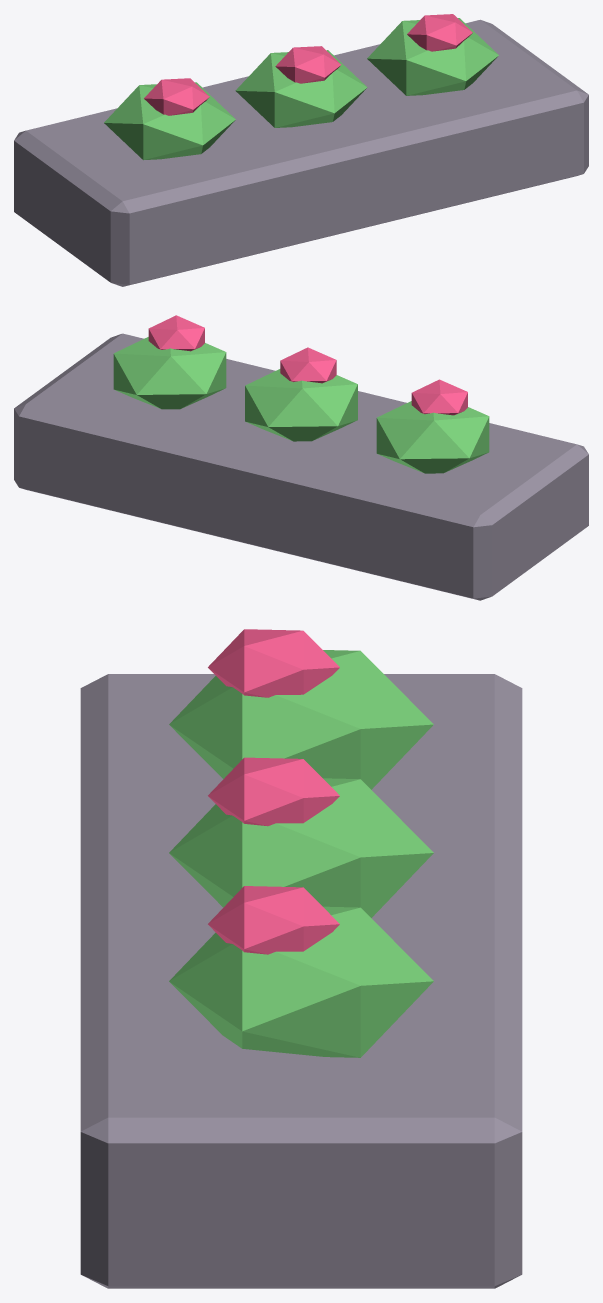
Rendered from planter.glb.
3 views of the same model, one above another, from view 1: azimuth 30°, elevation 25°; view 2: azimuth 150°, elevation 25°; view 3: azimuth 270°, elevation 25° (orthographic). The views are drawn at different scales.
Parts seen in each view (by area): view 1: box, plant.002, plant, plant.001, flower, flower.002, flower.001; view 2: box, plant.002, plant, plant.001, flower.001, flower.002, flower; view 3: box, plant.002, plant, plant.001, flower, flower.002, flower.001.
Boxes of the visible parts, left/top/right/bottom form: box: left=14, top=19, right=588, bottom=286; plant.002: left=367, top=18, right=498, bottom=95; plant: left=104, top=82, right=235, bottom=160; plant.001: left=235, top=50, right=367, bottom=127; flower: left=144, top=78, right=209, bottom=115; flower.002: left=407, top=14, right=472, bottom=51; flower.001: left=275, top=46, right=341, bottom=83; box: left=14, top=333, right=588, bottom=600; plant.002: left=113, top=337, right=226, bottom=409; plant: left=376, top=401, right=489, bottom=473; plant.001: left=245, top=369, right=357, bottom=441; flower.001: left=280, top=347, right=336, bottom=383; flower.002: left=148, top=315, right=204, bottom=351; flower: left=411, top=379, right=467, bottom=415; box: left=80, top=674, right=522, bottom=1288; plant.002: left=169, top=906, right=433, bottom=1057; plant: left=169, top=650, right=433, bottom=789; plant.001: left=169, top=778, right=433, bottom=917; flower: left=208, top=629, right=339, bottom=697; flower.002: left=208, top=886, right=339, bottom=954; flower.001: left=208, top=757, right=339, bottom=826.
Size of the model in its own units: 2 by 0.6 by 0.8.
